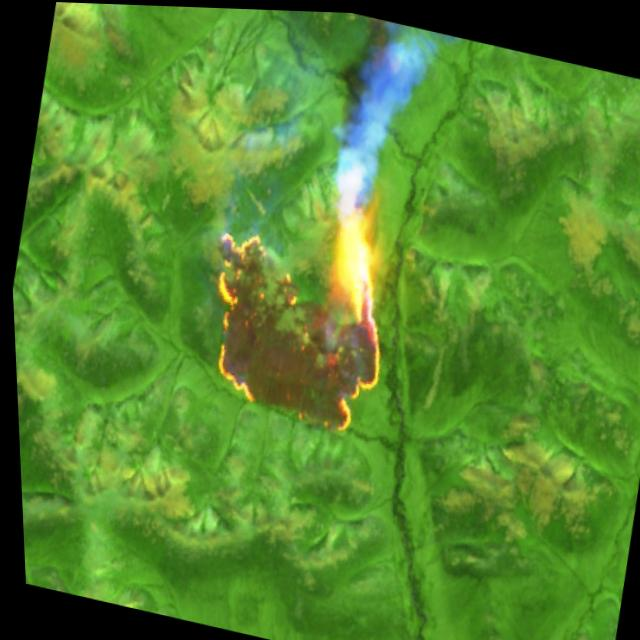fire: (176, 166, 418, 451)
